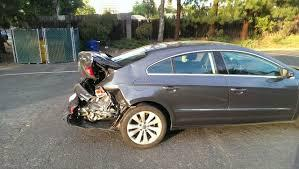boot-dent: (69, 50, 111, 88)
rear-bumper-dent: (74, 93, 121, 126)
